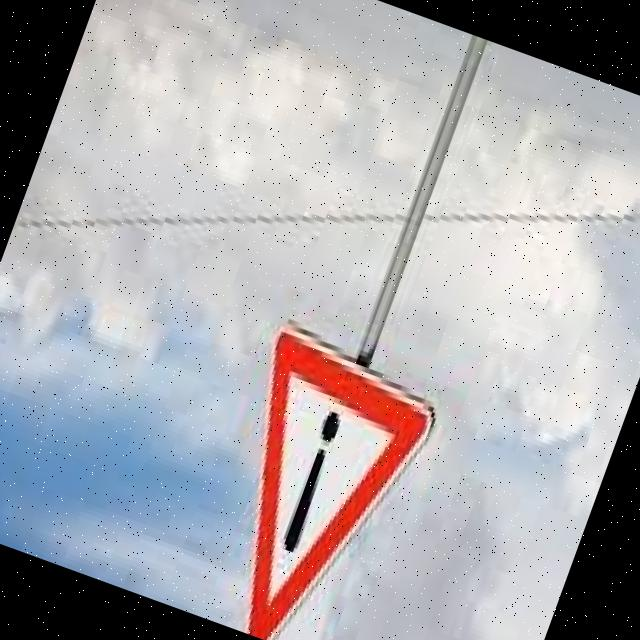warning: (173, 311, 457, 640)
